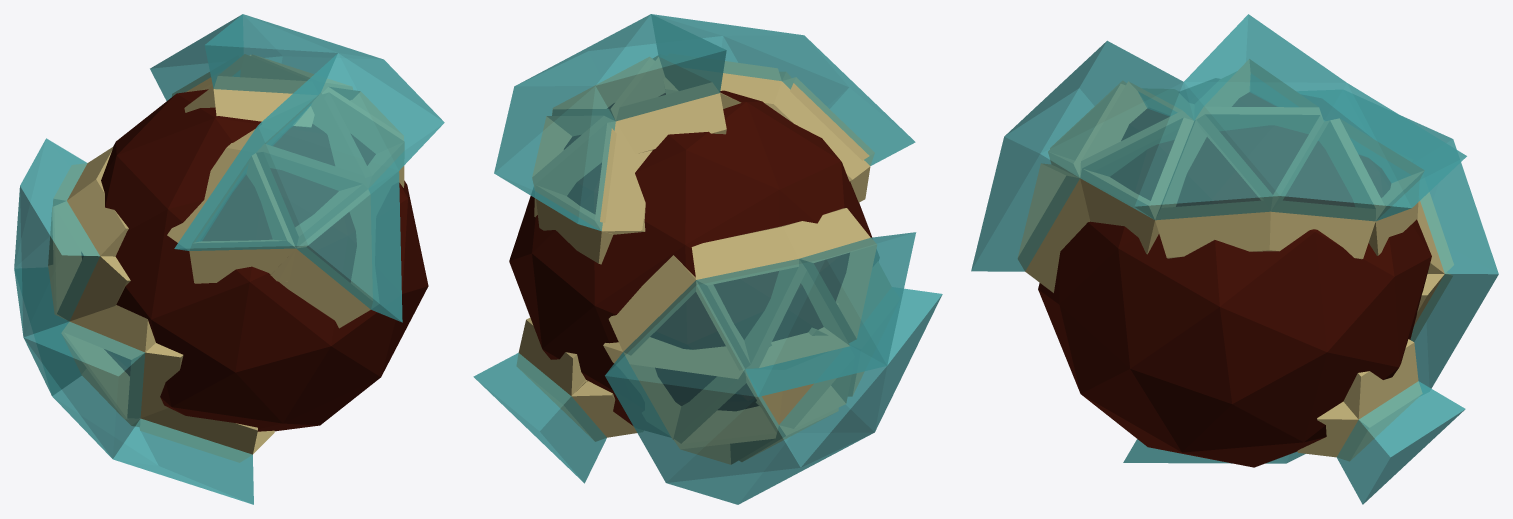
The model's file is Planet2_OneMesh.fbx.
3 views of the same model, side by side, from view 1: azimuth 30°, elevation 25°; view 2: azimuth 150°, elevation 25°; view 3: azimuth 270°, elevation 25° (orthographic). The views are drawn at different scales.
Parts seen in each view (by area): view 1: Rock; view 2: Rock; view 3: Rock.
Part boxes in pixels (left/top/right/bottom): Rock: left=14, top=14, right=444, bottom=504; Rock: left=473, top=14, right=942, bottom=504; Rock: left=971, top=14, right=1498, bottom=504.
Bounding box in the file's own units: 5.26 × 5.9 × 6.07.
